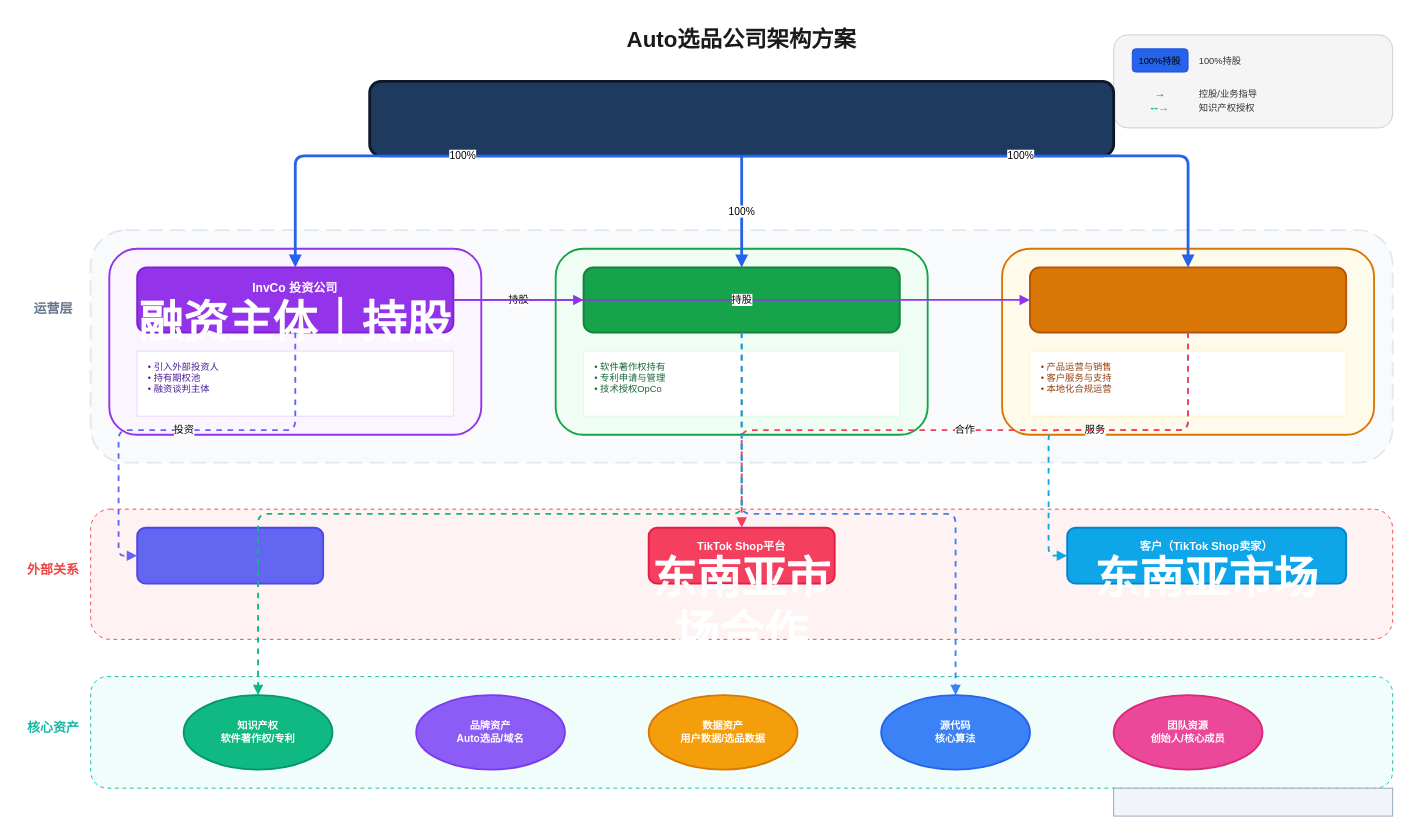
The diagram is 1409 pixels wide and 832 high, and some of its shapes have lost their labels. Here are the shapes that lost their labels. From the top down, the centre of each, then its label:
At [741,118]: "HoldCo 持股公司 海南自贸港｜100%控股".
At [741,299]: "TechCo 技术公司 知识产权持有｜技术资产".
At [1188,299]: "OpCo 运营公司 TikTok Shop东南亚市场运营".
At [230,555]: "外部投资人 VC/PE/战略投资方".
At [1253,801]: "备注：实线箭头=股权关系，虚线箭头=业务/授权关系".
